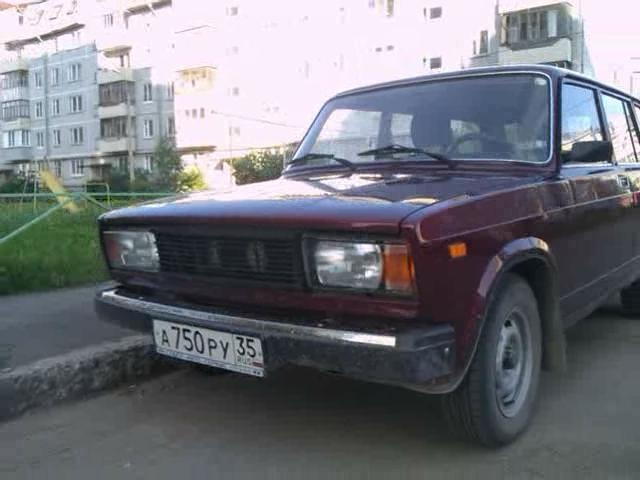car license plate: (149, 313, 267, 379)
